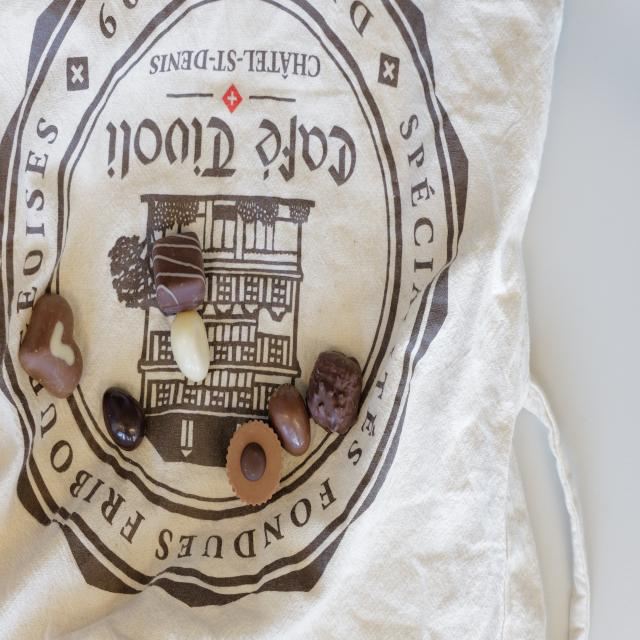Jelly_Black: (101, 387, 146, 452)
Jelly_Milk: (270, 383, 311, 456)
Jelly_White: (170, 310, 210, 382)
Noblesse: (226, 418, 285, 506)
Passion_au_lait: (19, 292, 83, 398)
Stracciatella: (152, 232, 206, 312)
Tentation_noir: (306, 348, 362, 435)
